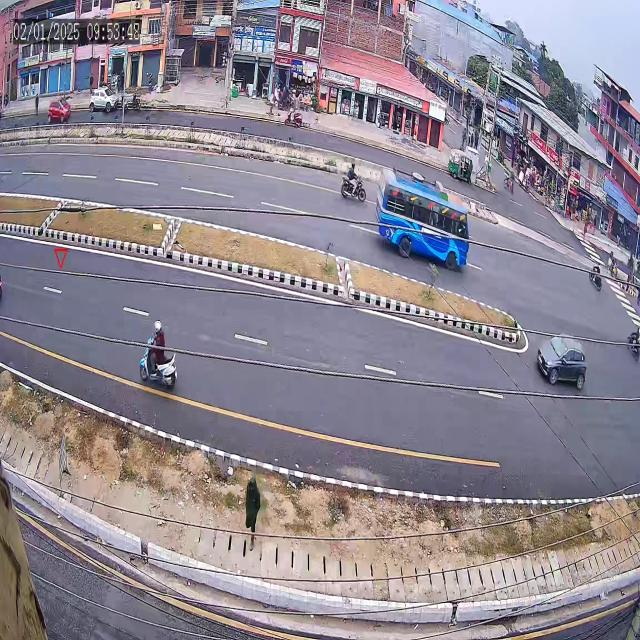bus: (374, 156, 474, 283)
car: (527, 312, 591, 403), (42, 93, 76, 130)
motorcycle: (132, 290, 184, 404), (337, 152, 368, 216), (581, 251, 608, 289), (625, 316, 640, 363)
